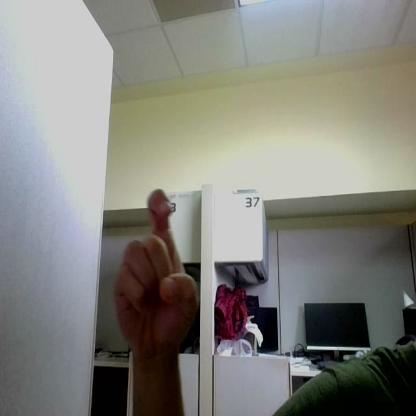X: (115, 189, 198, 349)
